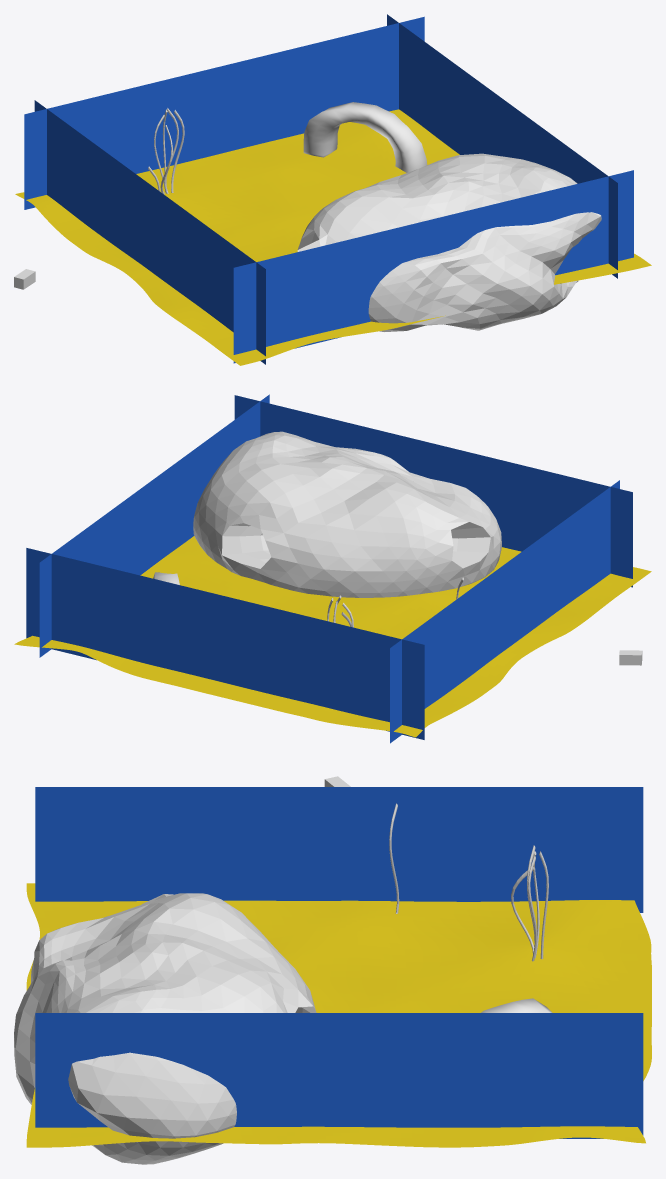
Rendered from seabed.fbx.
3 views of the same model, one above another, from view 1: azimuth 30°, elevation 25°; view 2: azimuth 150°, elevation 25°; view 3: azimuth 270°, elevation 25° (orthographic). The views are drawn at different scales.
Visible parts, largest first — view 1: Cave, Wall2, Plane, Wall3, Wall1, Wall4, Rock Arch; view 2: Cave, Wall2, Plane, Wall1, Wall3, Wall4; view 3: Wall1, Wall4, Plane, Cave, Rock Arch.
Part boxes in pixels (<box>): Cave: <box>297,153,601,331</box>; Wall2: <box>24,16,424,209</box>; Plane: <box>15,109,651,365</box>; Wall3: <box>233,170,633,363</box>; Wall1: <box>34,100,265,364</box>; Wall4: <box>387,14,617,278</box>; Rock Arch: <box>303,102,427,172</box>; Cave: <box>193,431,501,597</box>; Wall2: <box>26,548,424,739</box>; Plane: <box>14,536,651,737</box>; Wall1: <box>390,480,619,743</box>; Wall3: <box>234,395,632,587</box>; Wall4: <box>39,394,269,657</box>; Wall1: <box>35,787,643,912</box>; Wall4: <box>35,1013,643,1138</box>; Plane: <box>26,883,651,1147</box>; Cave: <box>14,893,316,1164</box>; Rock Arch: <box>481,998,552,1012</box>.
Size of the model in its own units: 10589 by 2574 by 8559.
